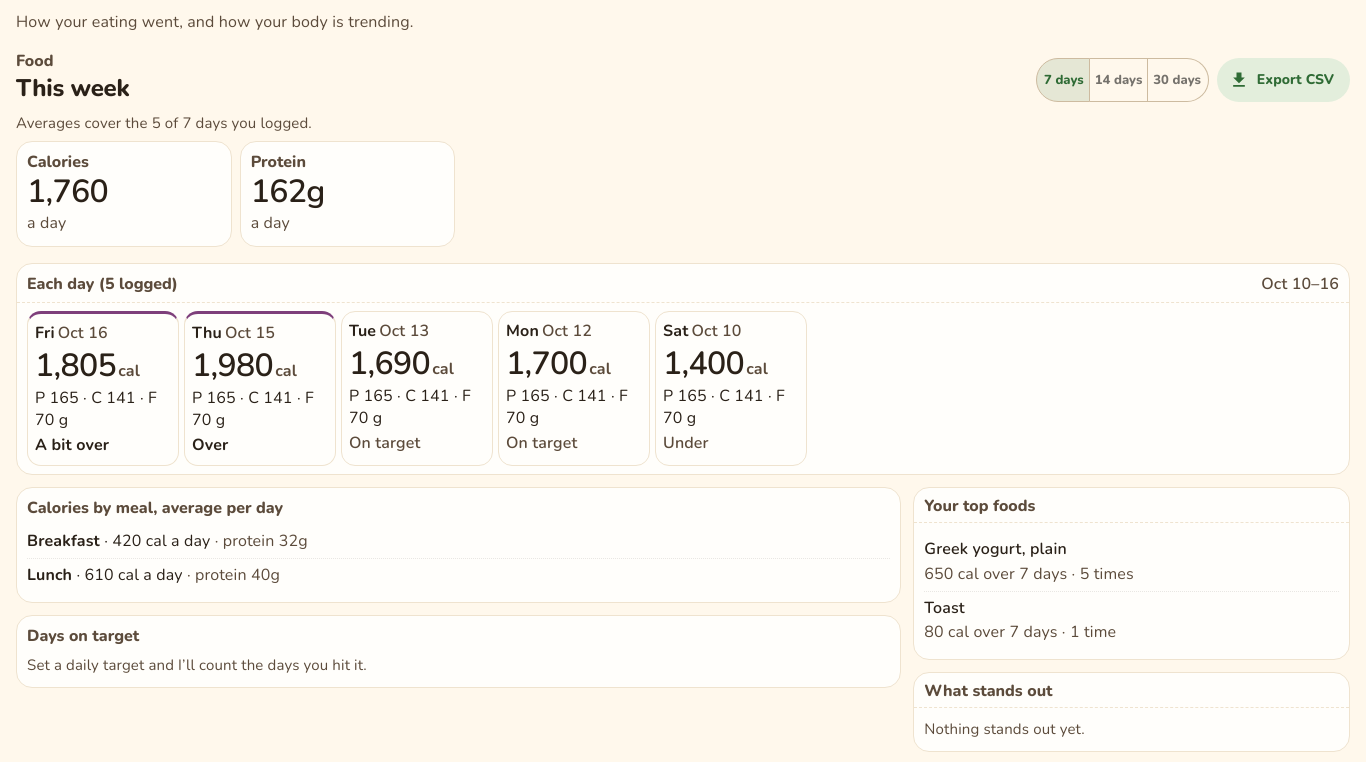
Test: D-11 — Notes from the AI › the title follows the range
This screenshot has width=1366, height=762.
Click the button "30 days" at (1178, 80), box [1147,58,1209,102]
(page scrolled)
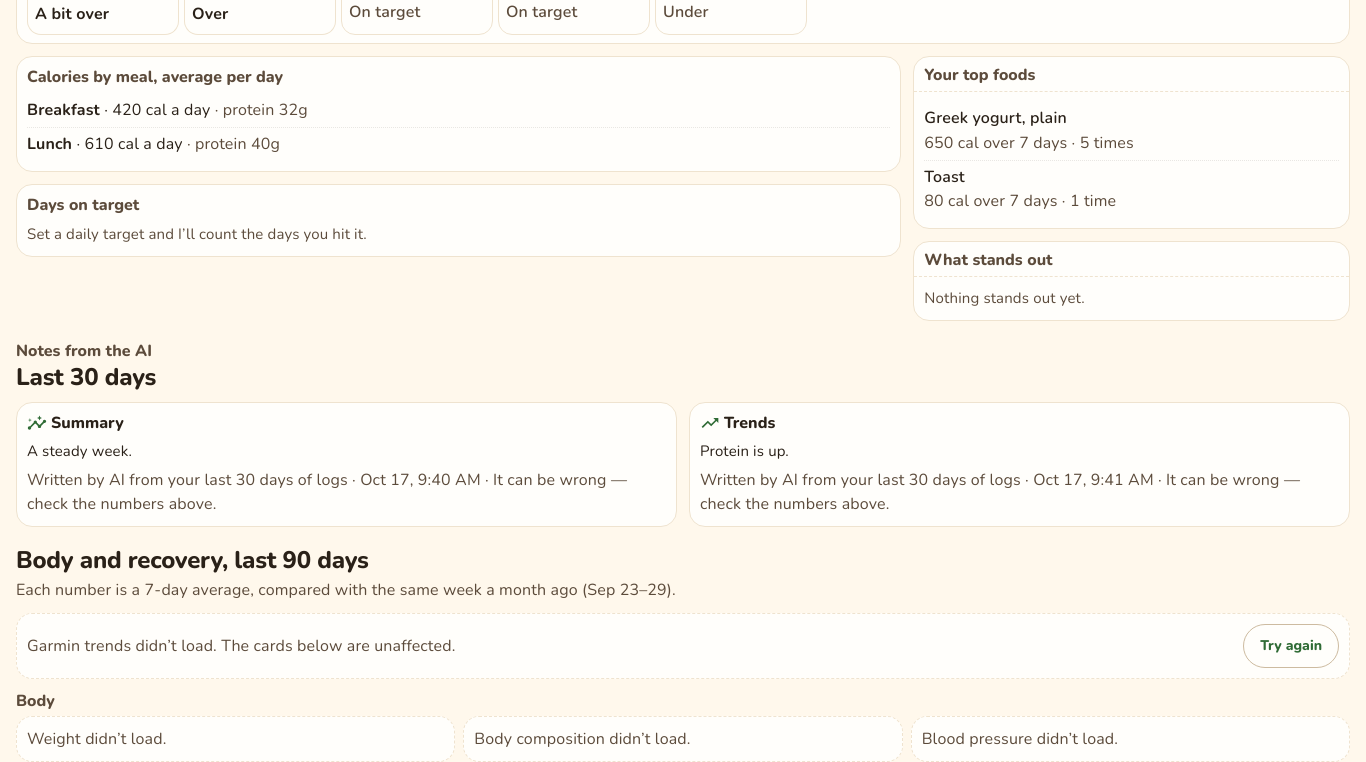
Check: the heading "Last 30 days" is shown, box [16,361,156,393]
